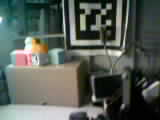duck: (18, 31, 41, 53)
